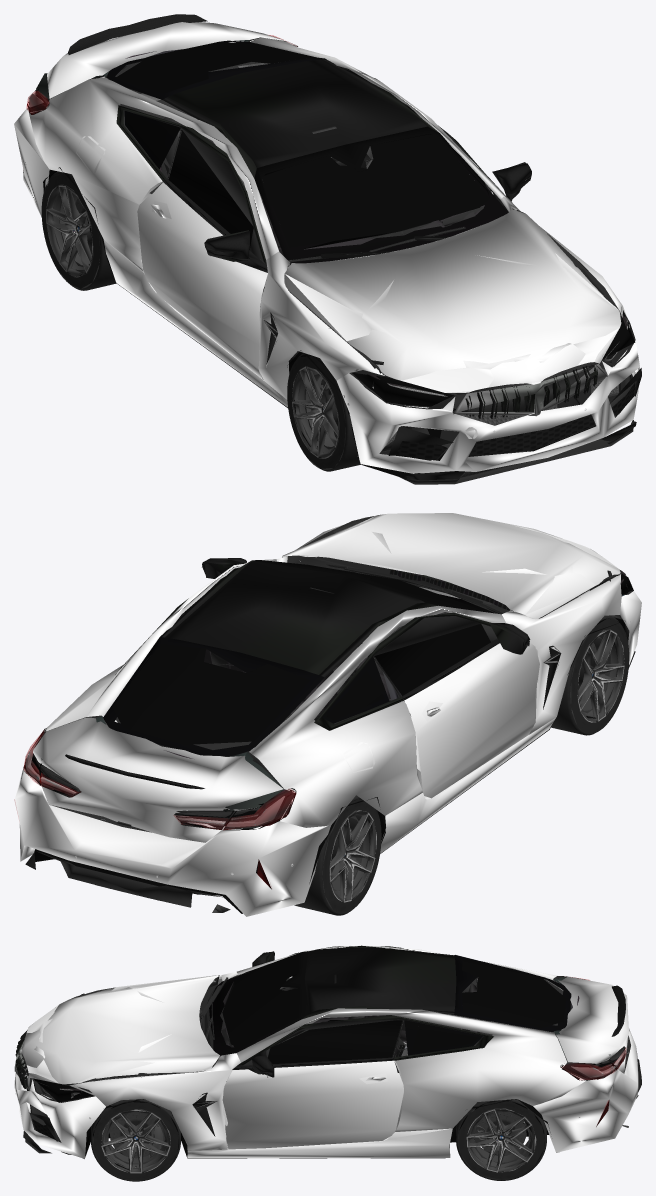
Rendered from 2020_bmw_m8_card.glb.
The picture shows the model from 3 angles, top to bottom: view 1: azimuth 30°, elevation 25°; view 2: azimuth 150°, elevation 25°; view 3: azimuth 270°, elevation 25°; orthographic projection. The views are drawn at different scales.
Visible parts, largest first — view 1: b:Paint_Geo_lodA_Paint_Geo_lodA_BMW_M8RewardRecycled_2020Pai (×2), b:Kit0_Coloured_Geo_lodA_Kit0_Coloured_Geo_lodA_BMW_M8Reward, b:Kit0_Window_Geo_lodA_Kit0_Window_Geo_lodA_BMW_M8RewardRecy, b:Grille1_Geo_lodA_Grille1_Geo_lodA_BMW_M8RewardRecycled_202, b:Interior_Geo_lodA_Interior_Geo_lodA_BMW_M8RewardRecycled_2, polySurface297_b:BMW_M8RewardRecycled_2020_Wheel1A_3D_3DWhee, polySurface675_b:BMW_M8RewardRecycled_2020_Wheel1A_3D_3DWhee, b:Base_Geo_lodA_Base_Geo_lodA_BMW_M8RewardRecycled_2020Base_, b:Light_Geo_lodA_Light_Geo_lodA_BMW_M8RewardRecycled_2020Lig, b:Engine_Geo_lodA_Engine_Geo_lodA_BMW_M8RewardRecycled_2020E; view 2: b:Paint_Geo_lodA_Paint_Geo_lodA_BMW_M8RewardRecycled_2020Pai (×2), b:Kit0_Coloured_Geo_lodA_Kit0_Coloured_Geo_lodA_BMW_M8Reward, b:Kit0_Window_Geo_lodA_Kit0_Window_Geo_lodA_BMW_M8RewardRecy (×2), b:Light_Geo_lodA_Light_Geo_lodA_BMW_M8RewardRecycled_2020Lig, b:Engine_Geo_lodA_Engine_Geo_lodA_BMW_M8RewardRecycled_2020E, b:Interior_Geo_lodA_Interior_Geo_lodA_BMW_M8RewardRecycled_2, b:Base_Geo_lodA_Base_Geo_lodA_BMW_M8RewardRecycled_2020Base_, polySurface297_b:BMW_M8RewardRecycled_2020_Wheel1A_3D_3DWhee, polySurface675_b:BMW_M8RewardRecycled_2020_Wheel1A_3D_3DWhee, polySurface285_b:BMW_M8RewardRecycled_2020_Wheel1A_3D_3DWhee, polySurface631_b:BMW_M8RewardRecycled_2020_Wheel1A_3D_3DWhee; view 3: b:Paint_Geo_lodA_Paint_Geo_lodA_BMW_M8RewardRecycled_2020Pai (×2), b:Kit0_Coloured_Geo_lodA_Kit0_Coloured_Geo_lodA_BMW_M8Reward, b:Kit0_Window_Geo_lodA_Kit0_Window_Geo_lodA_BMW_M8RewardRecy (×2), polySurface114_b:BMW_M8RewardRecycled_2020_Wheel1A_3D_3DWhee, polySurface492_b:BMW_M8RewardRecycled_2020_Wheel1A_3D_3DWhee, b:Light_Geo_lodA_Light_Geo_lodA_BMW_M8RewardRecycled_2020Lig, b:Base_Geo_lodA_Base_Geo_lodA_BMW_M8RewardRecycled_2020Base_, b:Interior_Geo_lodA_Interior_Geo_lodA_BMW_M8RewardRecycled_2, b:Engine_Geo_lodA_Engine_Geo_lodA_BMW_M8RewardRecycled_2020E, polySurface181_b:BMW_M8RewardRecycled_2020_Wheel1A_3D_3DWhee, polySurface102_b:BMW_M8RewardRecycled_2020_Wheel1A_3D_3DWhee, polySurface448_b:BMW_M8RewardRecycled_2020_Wheel1A_3D_3DWhee (+3 smaller).
Boxes of the visible parts, box(x1,y1,x2,y2) form: b:Paint_Geo_lodA_Paint_Geo_lodA_BMW_M8RewardRecycled_2020Pai (×2): box(14, 14, 639, 473); b:Kit0_Coloured_Geo_lodA_Kit0_Coloured_Geo_lodA_BMW_M8Reward: box(38, 37, 641, 484); b:Kit0_Window_Geo_lodA_Kit0_Window_Geo_lodA_BMW_M8RewardRecy: box(27, 36, 635, 406); b:Grille1_Geo_lodA_Grille1_Geo_lodA_BMW_M8RewardRecycled_202: box(395, 382, 635, 460); b:Interior_Geo_lodA_Interior_Geo_lodA_BMW_M8RewardRecycled_2: box(36, 37, 491, 358); polySurface297_b:BMW_M8RewardRecycled_2020_Wheel1A_3D_3DWhee: box(287, 356, 345, 468); polySurface675_b:BMW_M8RewardRecycled_2020_Wheel1A_3D_3DWhee: box(41, 173, 100, 288); b:Base_Geo_lodA_Base_Geo_lodA_BMW_M8RewardRecycled_2020Base_: box(29, 42, 595, 478); b:Light_Geo_lodA_Light_Geo_lodA_BMW_M8RewardRecycled_2020Lig: box(28, 45, 635, 409); b:Engine_Geo_lodA_Engine_Geo_lodA_BMW_M8RewardRecycled_2020E: box(287, 209, 621, 395); b:Paint_Geo_lodA_Paint_Geo_lodA_BMW_M8RewardRecycled_2020Pai (×2): box(15, 513, 641, 916); b:Kit0_Coloured_Geo_lodA_Kit0_Coloured_Geo_lodA_BMW_M8Reward: box(25, 560, 629, 912); b:Kit0_Window_Geo_lodA_Kit0_Window_Geo_lodA_BMW_M8RewardRecy (×2): box(14, 560, 633, 887); b:Light_Geo_lodA_Light_Geo_lodA_BMW_M8RewardRecycled_2020Lig: box(25, 569, 633, 829); b:Engine_Geo_lodA_Engine_Geo_lodA_BMW_M8RewardRecycled_2020E: box(282, 516, 620, 618); b:Interior_Geo_lodA_Interior_Geo_lodA_BMW_M8RewardRecycled_2: box(41, 587, 449, 829); b:Base_Geo_lodA_Base_Geo_lodA_BMW_M8RewardRecycled_2020Base_: box(23, 560, 635, 913); polySurface297_b:BMW_M8RewardRecycled_2020_Wheel1A_3D_3DWhee: box(571, 618, 628, 733); polySurface675_b:BMW_M8RewardRecycled_2020_Wheel1A_3D_3DWhee: box(322, 799, 381, 913); polySurface285_b:BMW_M8RewardRecycled_2020_Wheel1A_3D_3DWhee: box(578, 630, 624, 721); polySurface631_b:BMW_M8RewardRecycled_2020_Wheel1A_3D_3DWhee: box(330, 813, 375, 902); b:Paint_Geo_lodA_Paint_Geo_lodA_BMW_M8RewardRecycled_2020Pai (×2): box(14, 945, 638, 1158); b:Kit0_Coloured_Geo_lodA_Kit0_Coloured_Geo_lodA_BMW_M8Reward: box(14, 945, 641, 1153); b:Kit0_Window_Geo_lodA_Kit0_Window_Geo_lodA_BMW_M8RewardRecy (×2): box(33, 954, 626, 1124); polySurface114_b:BMW_M8RewardRecycled_2020_Wheel1A_3D_3DWhee: box(93, 1102, 178, 1180); polySurface492_b:BMW_M8RewardRecycled_2020_Wheel1A_3D_3DWhee: box(458, 1100, 544, 1179); b:Light_Geo_lodA_Light_Geo_lodA_BMW_M8RewardRecycled_2020Lig: box(33, 979, 628, 1102); b:Base_Geo_lodA_Base_Geo_lodA_BMW_M8RewardRecycled_2020Base_: box(34, 954, 616, 1158); b:Interior_Geo_lodA_Interior_Geo_lodA_BMW_M8RewardRecycled_2: box(220, 972, 617, 1080); b:Engine_Geo_lodA_Engine_Geo_lodA_BMW_M8RewardRecycled_2020E: box(21, 975, 219, 1104); polySurface181_b:BMW_M8RewardRecycled_2020_Wheel1A_3D_3DWhee: box(110, 1113, 154, 1158); polySurface102_b:BMW_M8RewardRecycled_2020_Wheel1A_3D_3DWhee: box(101, 1113, 170, 1173); polySurface448_b:BMW_M8RewardRecycled_2020_Wheel1A_3D_3DWhee: box(466, 1109, 533, 1172).
Bounding box in the file's own units: 0.0214 × 0.0133 × 0.0485.
22 materials, 15 textured.
